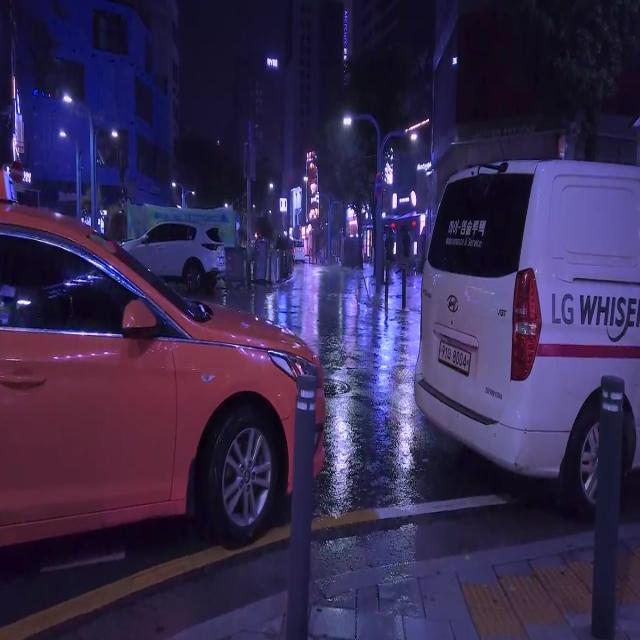Car: (0, 207, 322, 546), (418, 155, 639, 512)
